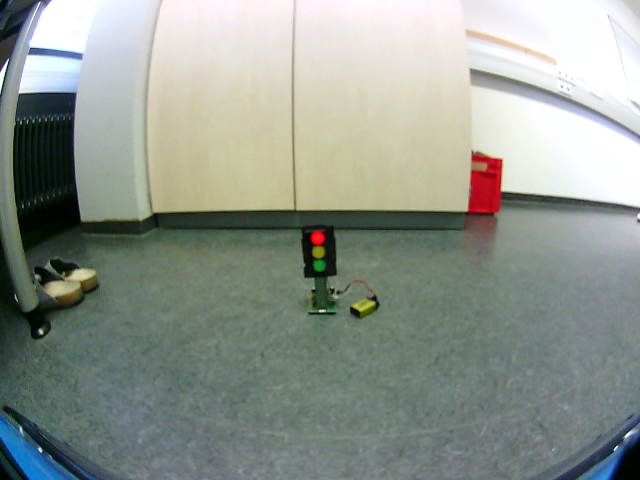red trafficlight: (305, 226, 331, 275)
